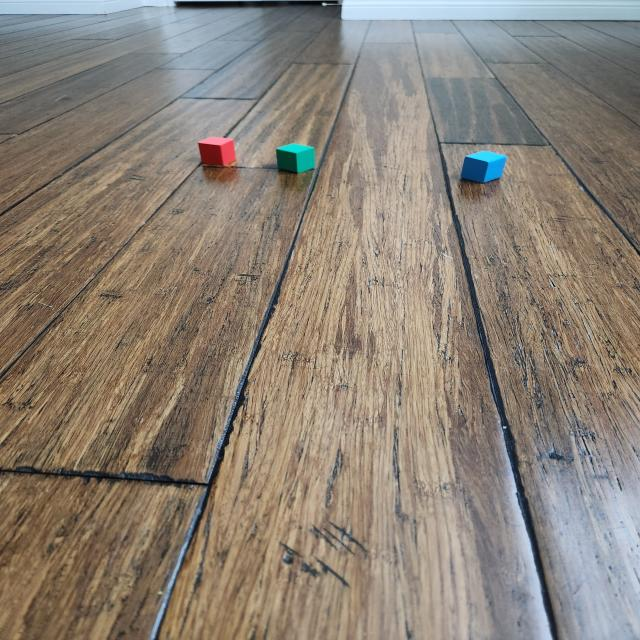bluecube: (464, 149, 506, 184)
green cube: (276, 141, 316, 174)
red cube: (198, 136, 238, 168)
